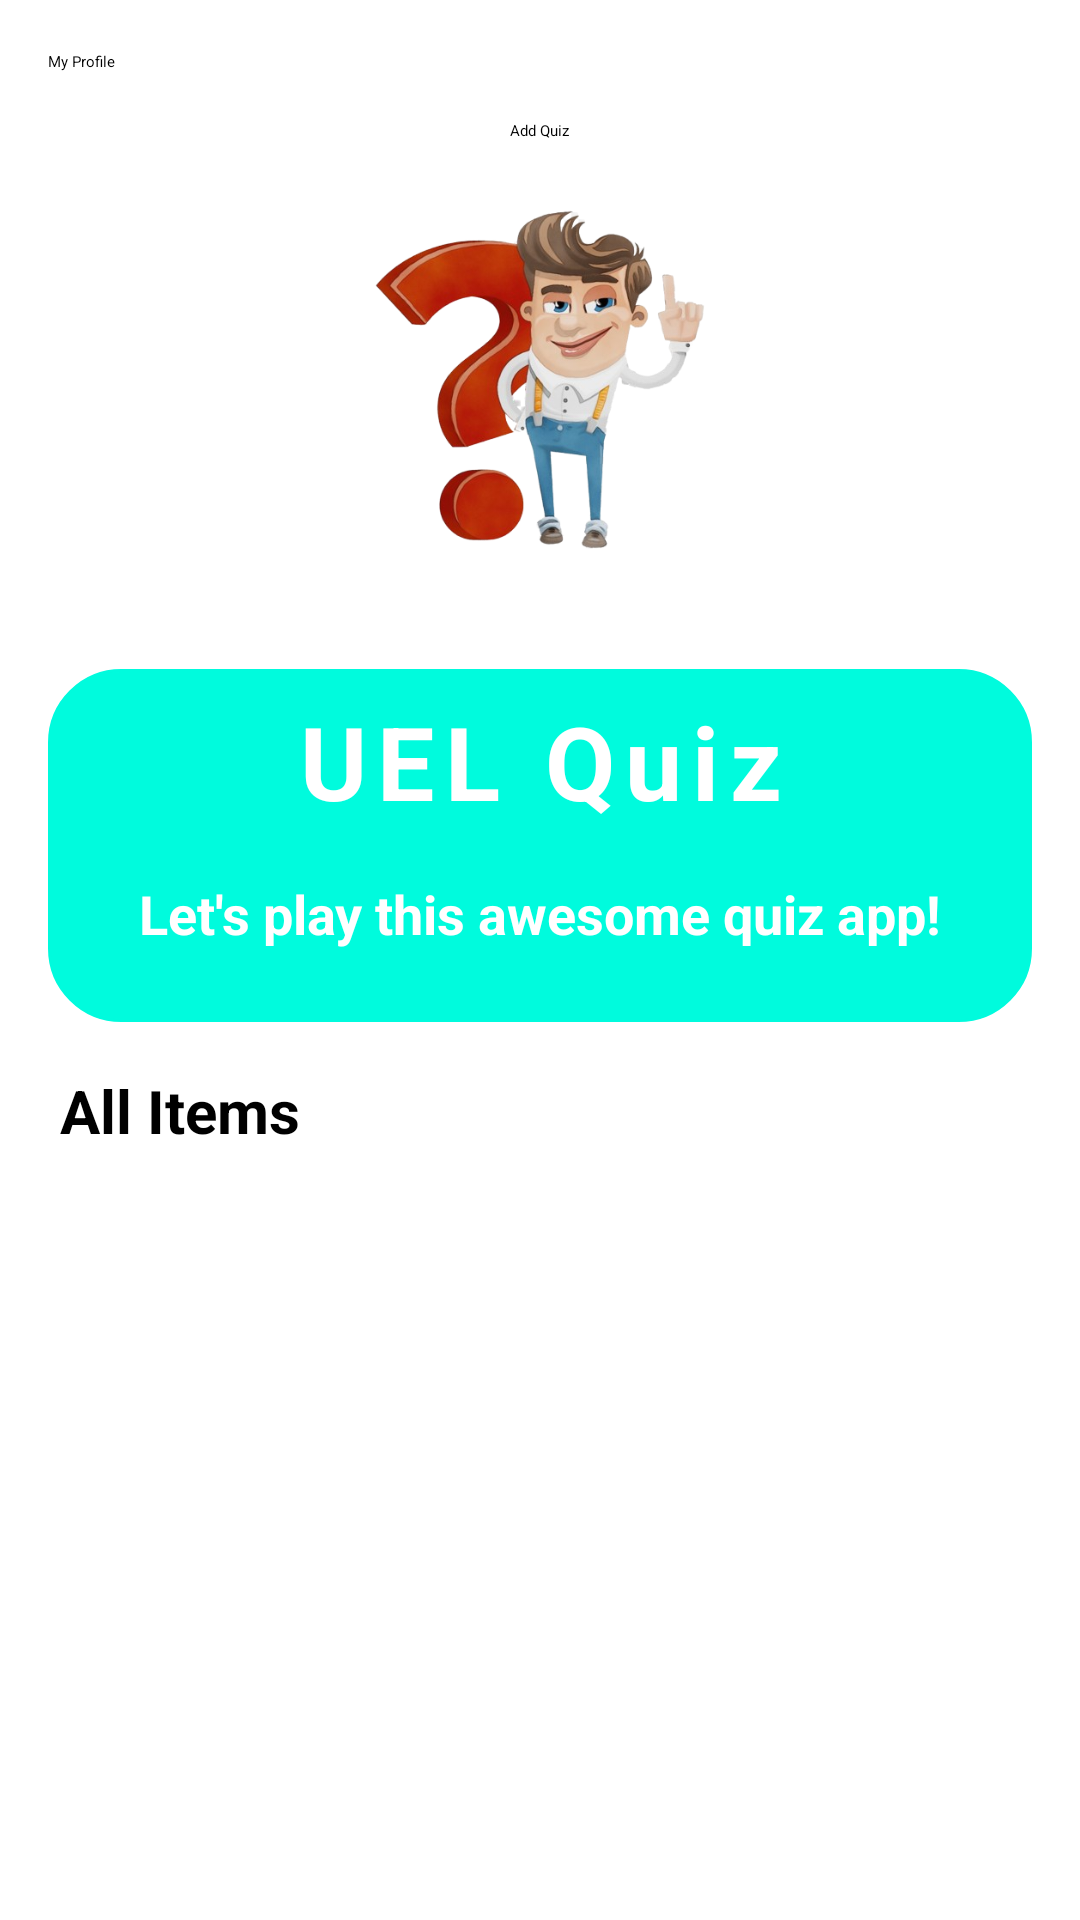

Icon click points for this 1080*1920 phone screenshot, format point (x, y):
imageofquizman: point (540, 379)
